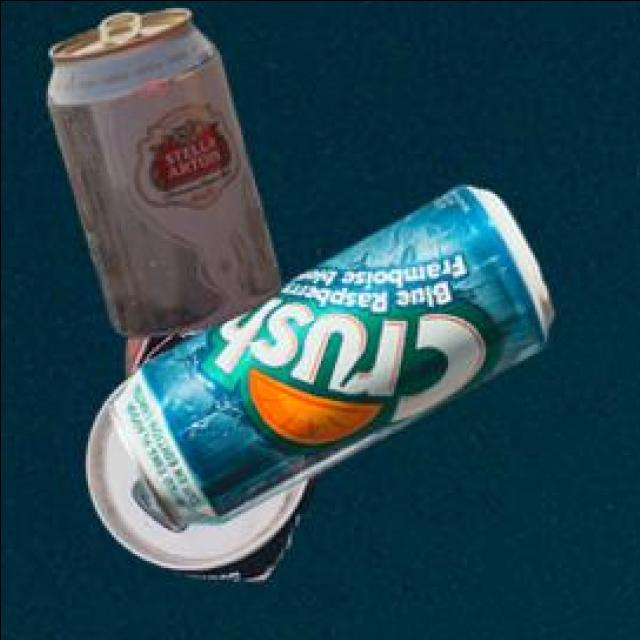logam: (112, 189, 556, 533), (51, 13, 284, 340), (88, 331, 319, 582)
